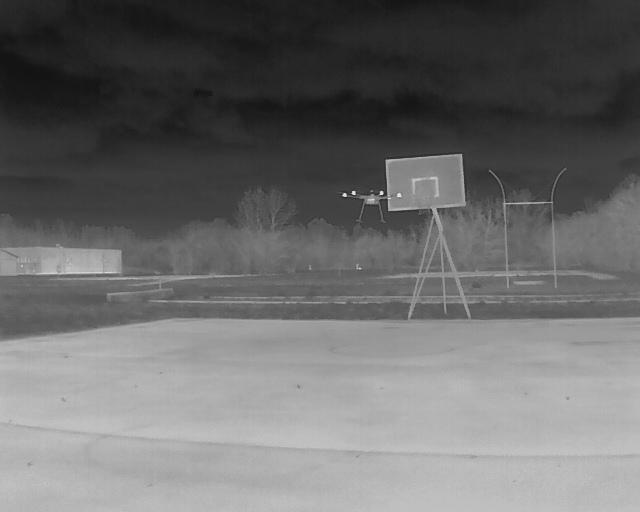drone: (335, 182, 407, 228)
